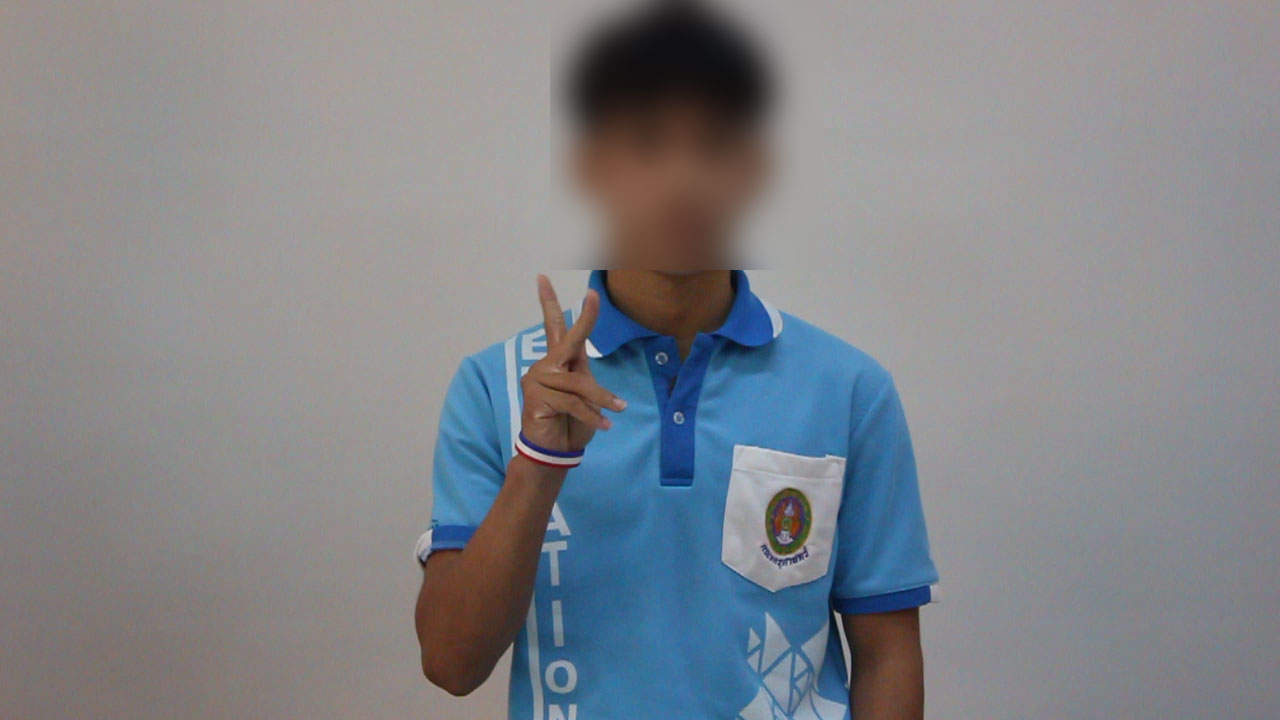ko: (499, 264, 627, 461)
